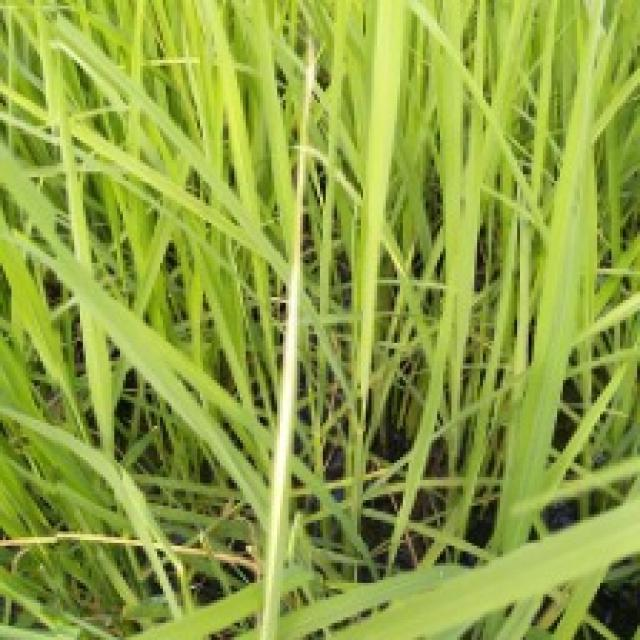Rice___Bacterial_Leaf_Blight: (257, 103, 310, 637)
